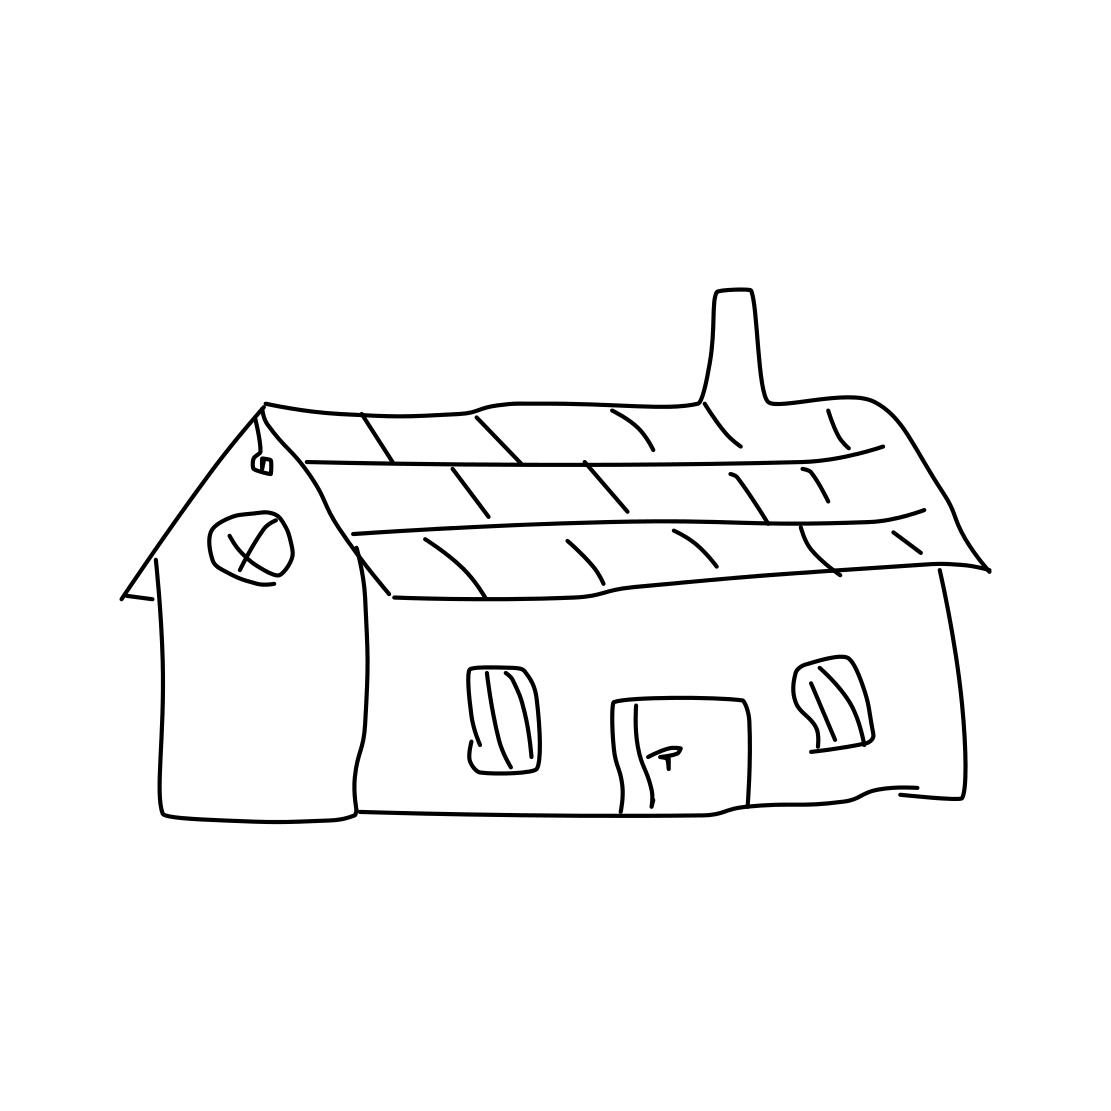House: (116, 284, 986, 847)
